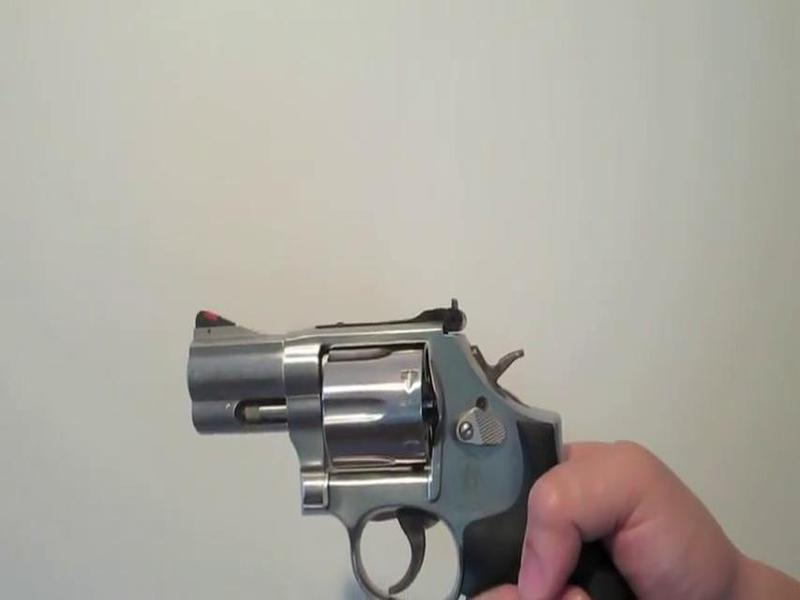Revolver: (85, 296, 604, 583)
